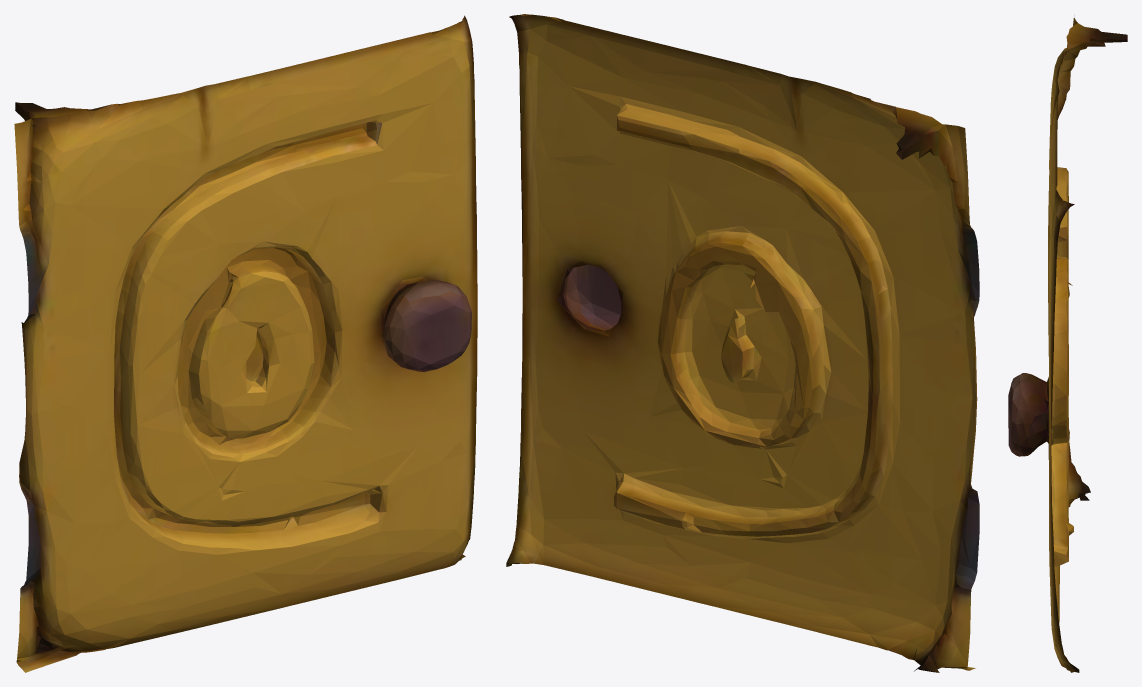
The model's file is door_left.glb.
3 views of the same model, side by side, from view 1: azimuth 30°, elevation 25°; view 2: azimuth 150°, elevation 25°; view 3: azimuth 270°, elevation 25° (orthographic). The views are drawn at different scales.
Visible parts, largest first — view 1: source_surface_0; view 2: source_surface_0; view 3: source_surface_0.
Boxes of the visible parts, x1=… form: source_surface_0: x1=14, y1=15, x2=477, y2=672; source_surface_0: x1=506, y1=14, x2=979, y2=672; source_surface_0: x1=1008, y1=17, x2=1127, y2=672.
Size of the model in its own units: 0.0868 by 0.0998 by 0.023.
Materials: 1 (1 with a texture image).
